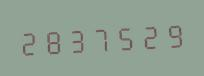eight: (41, 23, 64, 57)
five: (113, 19, 136, 54)
nine: (161, 16, 184, 51)
seven: (89, 20, 112, 55)
three: (65, 21, 88, 56)
two: (17, 24, 40, 59), (137, 18, 160, 52)
